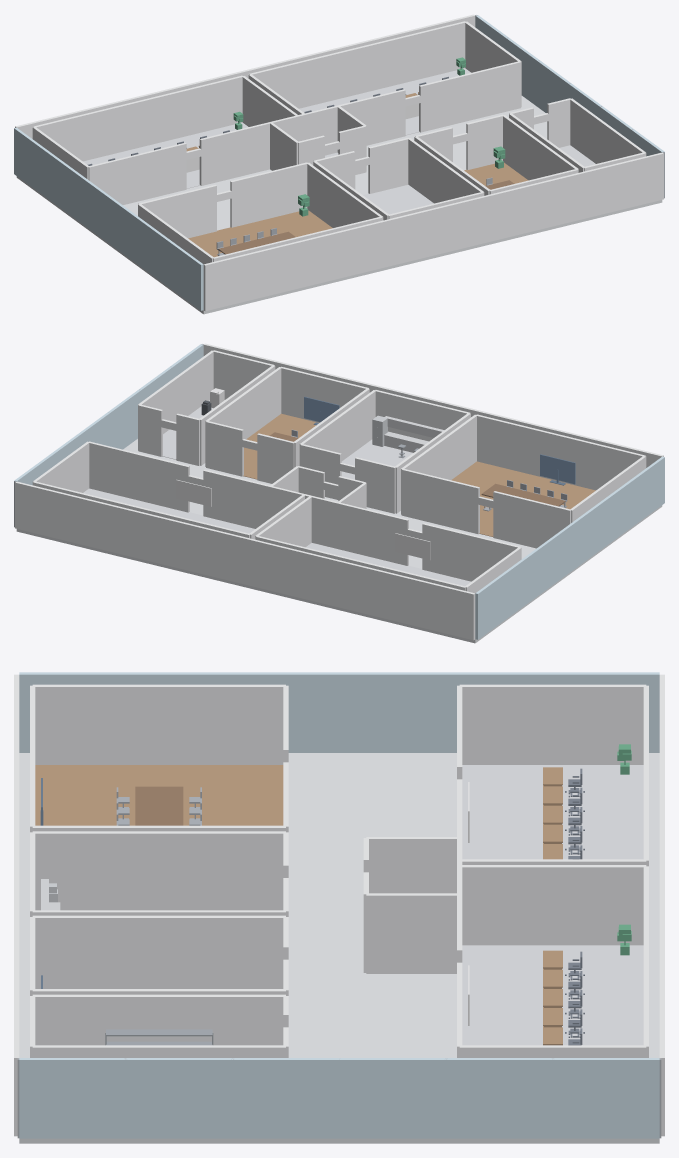
File: floor_3.glb
3 views of the same model, one above another, from view 1: azimuth 30°, elevation 25°; view 2: azimuth 150°, elevation 25°; view 3: azimuth 270°, elevation 25° (orthographic). The views are drawn at different scales.
Visible parts, largest first — view 1: wall_s, wall_w, w_ops_n, w_marketing_n, w_ops_s_b, slab, w_marketing_s_a, wall_e, w_meeting_l3_n_b, w_marketing_s_b, w_meeting_l3_n_a, wall_n (+31 smaller); view 2: wall_n, wall_w, w_meeting_l3_s, w_ops_s_b, wall_e, w_meeting_l3_n_b, slab, w_marketing_s_b, w_ops_s_a, w_marketing_s_a, w_meeting_l3_n_a, floor_meeting_l3 (+36 smaller); view 3: wall_e, slab, wall_w, w_meeting_l3_w, w_pantry3_w, w_meeting_s3_w, floor_ops, floor_marketing, w_marketing_w, w_ops_w, floor_meeting_l3, w_storage3_w (+15 smaller).
Boxes of the visible parts, bbox=[...] form: wall_s: bbox=[203, 152, 663, 311]; wall_w: bbox=[14, 127, 203, 310]; w_ops_n: bbox=[249, 21, 465, 108]; w_marketing_n: bbox=[33, 75, 242, 161]; w_ops_s_b: bbox=[419, 61, 520, 132]; slab: bbox=[16, 96, 662, 314]; w_marketing_s_a: bbox=[88, 143, 186, 204]; wall_e: bbox=[475, 15, 664, 156]; w_meeting_l3_n_b: bbox=[230, 162, 308, 227]; w_marketing_s_b: bbox=[199, 122, 270, 185]; w_meeting_l3_n_a: bbox=[138, 185, 216, 238]; wall_n: bbox=[15, 14, 475, 138]; wall_n: bbox=[15, 481, 475, 640]; wall_w: bbox=[475, 456, 664, 639]; w_meeting_l3_s: bbox=[476, 414, 645, 490]; w_ops_s_b: bbox=[88, 441, 189, 512]; wall_e: bbox=[14, 344, 203, 485]; w_meeting_l3_n_b: bbox=[401, 469, 479, 534]; slab: bbox=[16, 439, 662, 643]; w_marketing_s_b: bbox=[311, 497, 408, 565]; w_ops_s_a: bbox=[203, 469, 302, 528]; w_marketing_s_a: bbox=[422, 523, 520, 581]; w_meeting_l3_n_a: bbox=[493, 491, 570, 548]; floor_meeting_l3: bbox=[451, 461, 595, 536]; wall_e: bbox=[19, 1058, 659, 1138]; slab: bbox=[19, 753, 659, 1143]; wall_w: bbox=[19, 672, 659, 752]; w_meeting_l3_w: bbox=[32, 684, 285, 764]; w_pantry3_w: bbox=[32, 831, 285, 910]; w_meeting_s3_w: bbox=[32, 915, 285, 988]; floor_ops: bbox=[462, 945, 643, 1045]; floor_marketing: bbox=[462, 765, 643, 859]; w_marketing_w: bbox=[459, 684, 646, 764]; w_ops_w: bbox=[460, 865, 646, 945]; floor_meeting_l3: bbox=[35, 765, 283, 825]; w_storage3_w: bbox=[32, 994, 285, 1045].
Bounding box in the file's own units: 34.4 × 3.55 × 24.4.
